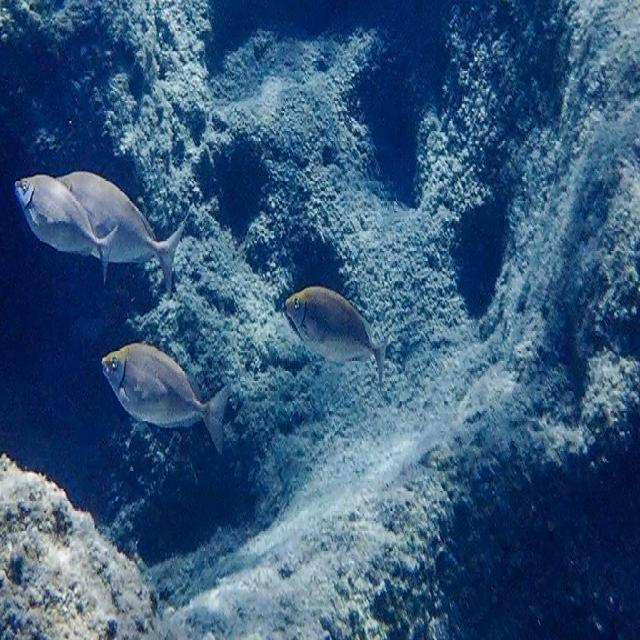Sokar Baligi: (96, 321, 238, 467), (281, 272, 393, 400)
